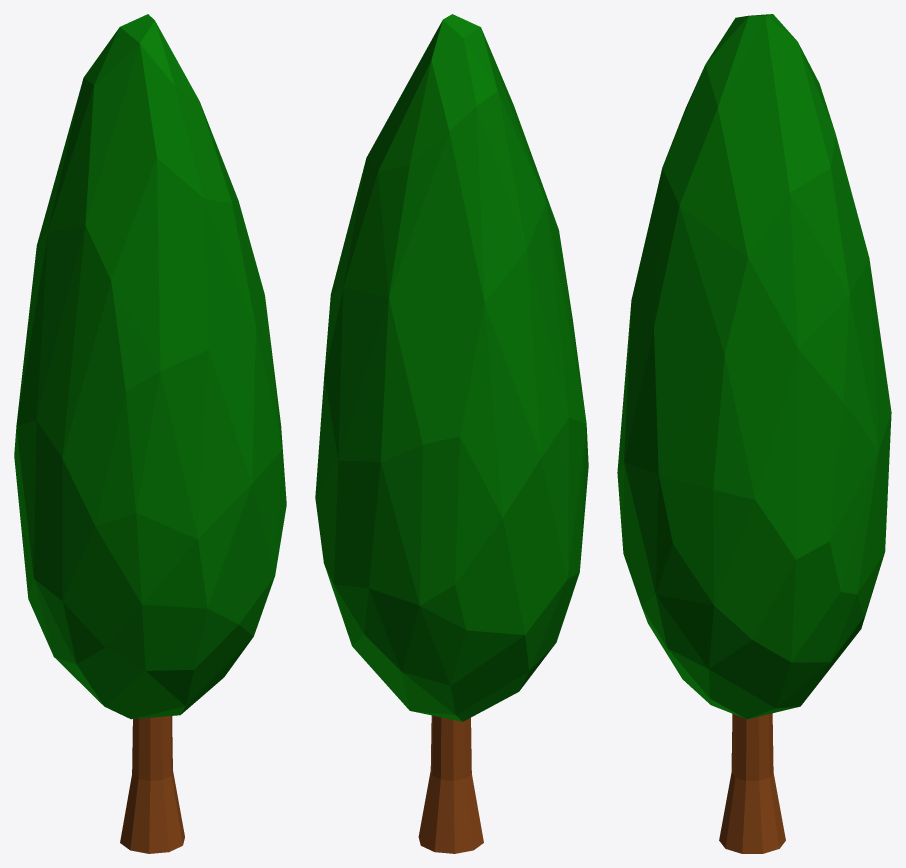
File: Tree.fbx
3 views of the same model, side by side, from view 1: azimuth 30°, elevation 25°; view 2: azimuth 150°, elevation 25°; view 3: azimuth 270°, elevation 25° (orthographic).
Parts seen in each view (by area): view 1: Cylinder; view 2: Cylinder; view 3: Cylinder.
Boxes of the visible parts, x1,y1,x2,y2 form: Cylinder: [14, 14, 286, 853]; Cylinder: [315, 14, 588, 853]; Cylinder: [617, 14, 891, 853].
Size of the model in its own units: 181 by 611 by 184.
